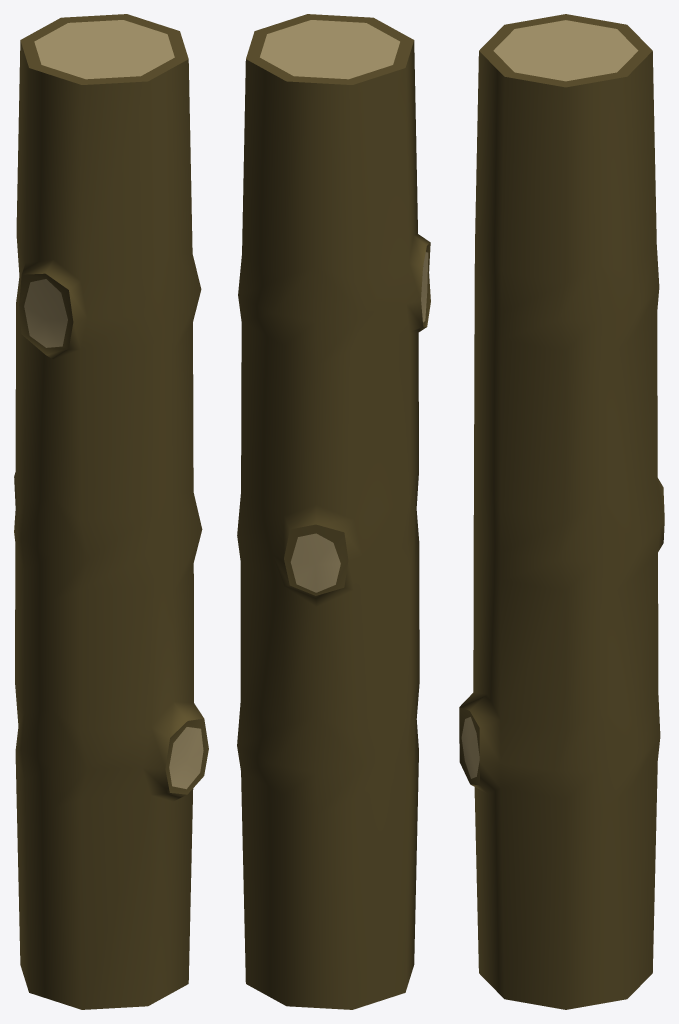
File: Pole_Deco.fbx
3 renders of one model, left to right at view 1: azimuth 30°, elevation 25°; view 2: azimuth 150°, elevation 25°; view 3: azimuth 270°, elevation 25°, orthographic.
Visible parts, largest first — view 1: polySurface31; view 2: polySurface31; view 3: polySurface31.
Part boxes in pixels (box(x1,y1,x2,y2)): polySurface31: box(14, 14, 208, 1009); polySurface31: box(237, 14, 430, 1009); polySurface31: box(459, 14, 664, 1009).
Size of the model in its own units: 0.3829 by 2 by 0.4039.
